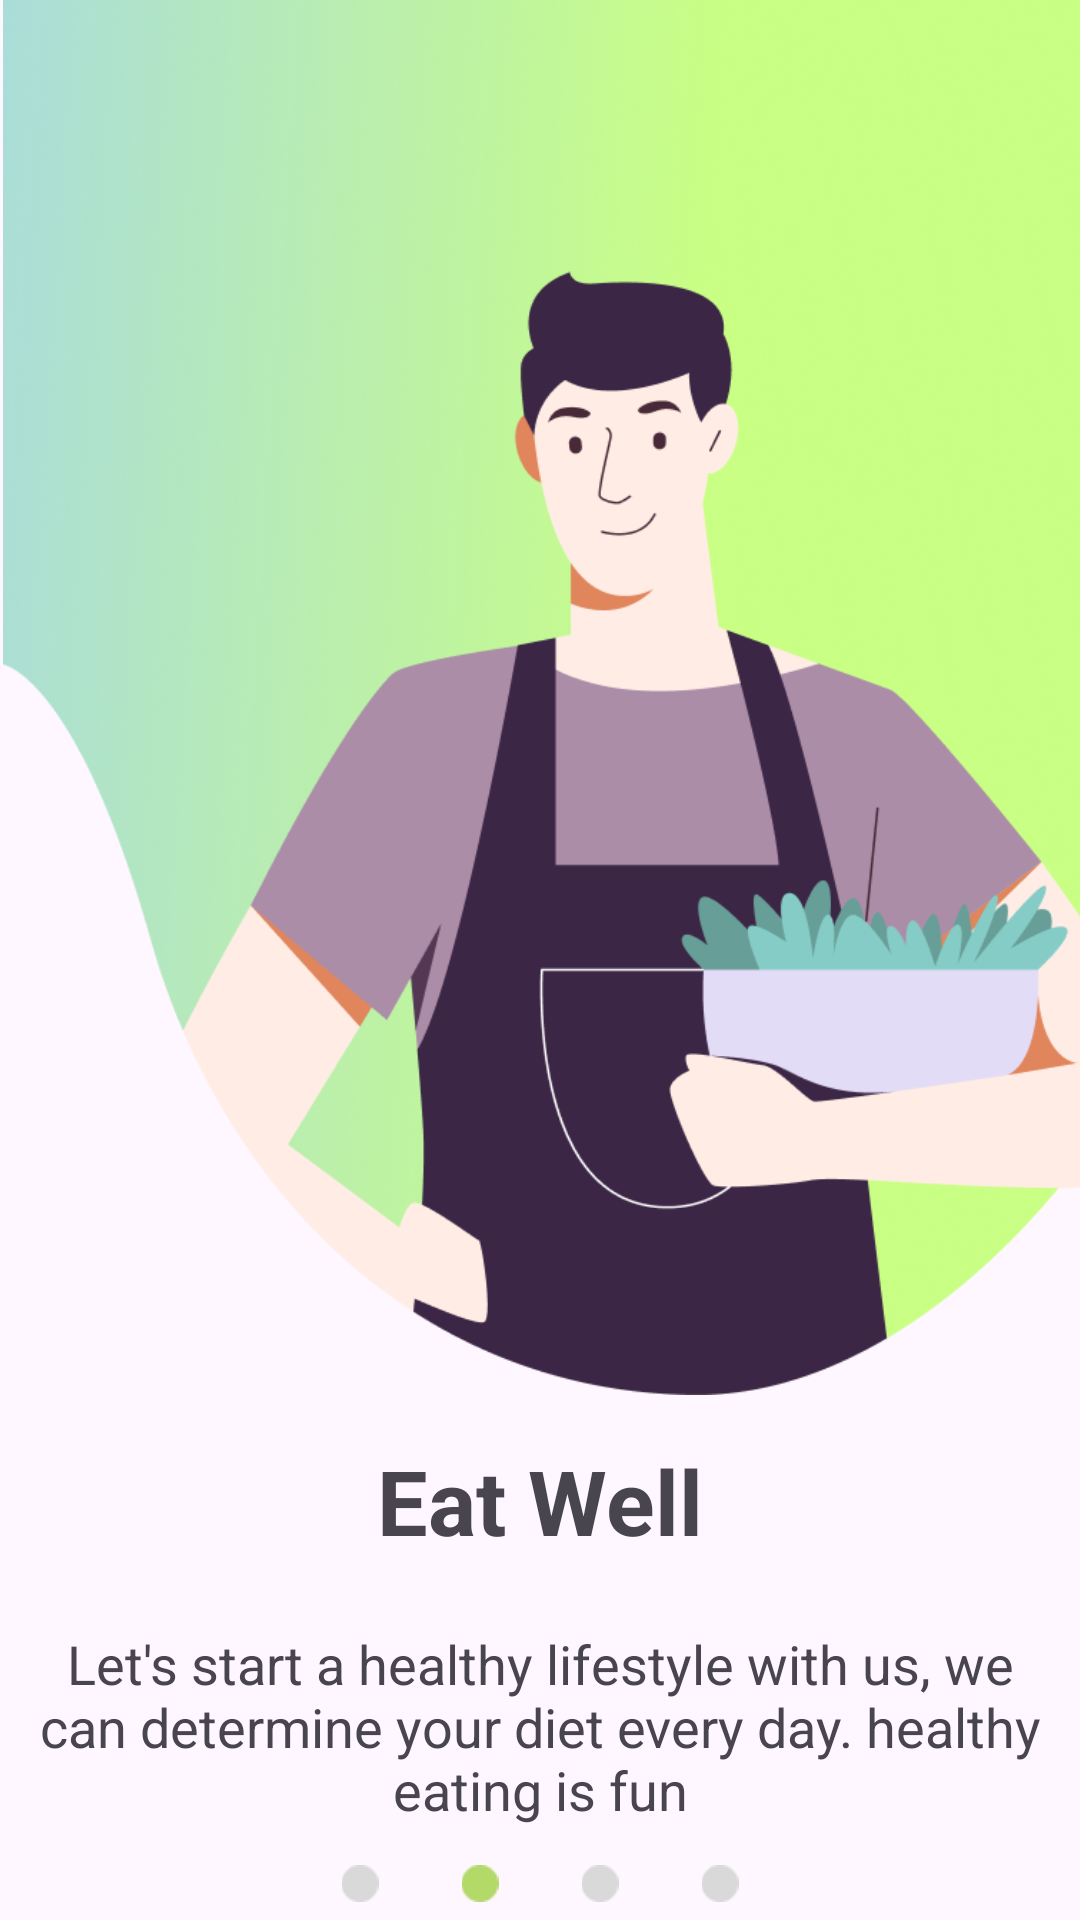

Icons on this 1080px x 1920px Android screen, each with the point to tap as (x,y):
gball: (480,1883)
